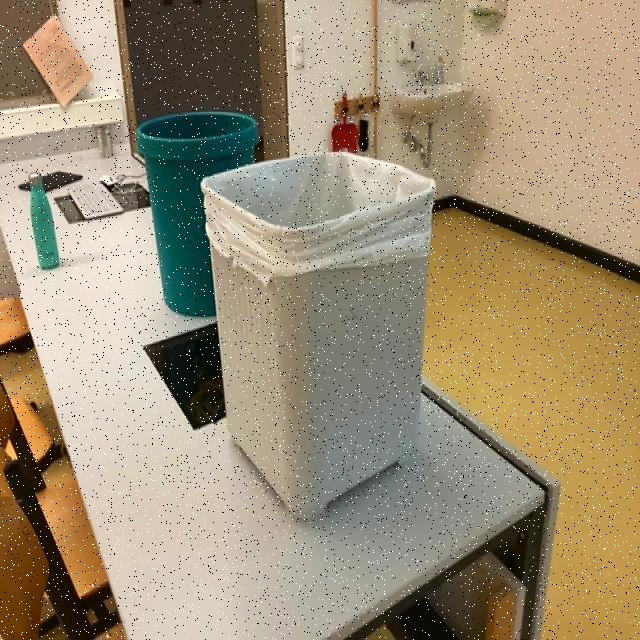garbage container: (200, 74, 464, 524)
